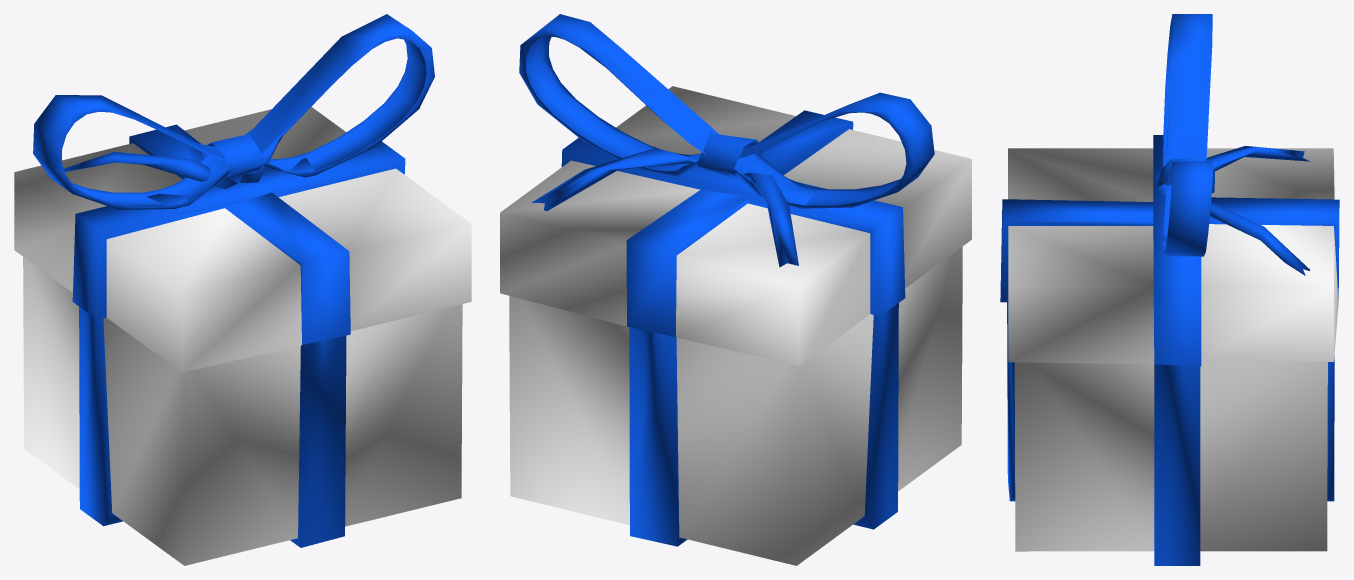
The model's file is WorldItem_CM_LargePresent.fbx.
3 renders of one model, left to right at view 1: azimuth 30°, elevation 25°; view 2: azimuth 150°, elevation 25°; view 3: azimuth 270°, elevation 25°, orthographic. The views are drawn at different scales.
Parts seen in each view (by area): view 1: Cube.002; view 2: Cube.002; view 3: Cube.002.
Part boxes in pixels (x1,y1,x2,y2): Cube.002: (14, 14, 471, 565); Cube.002: (500, 14, 971, 565); Cube.002: (1000, 14, 1339, 565).
Size of the model in its own units: 0.677 by 0.7007 by 0.5348.
